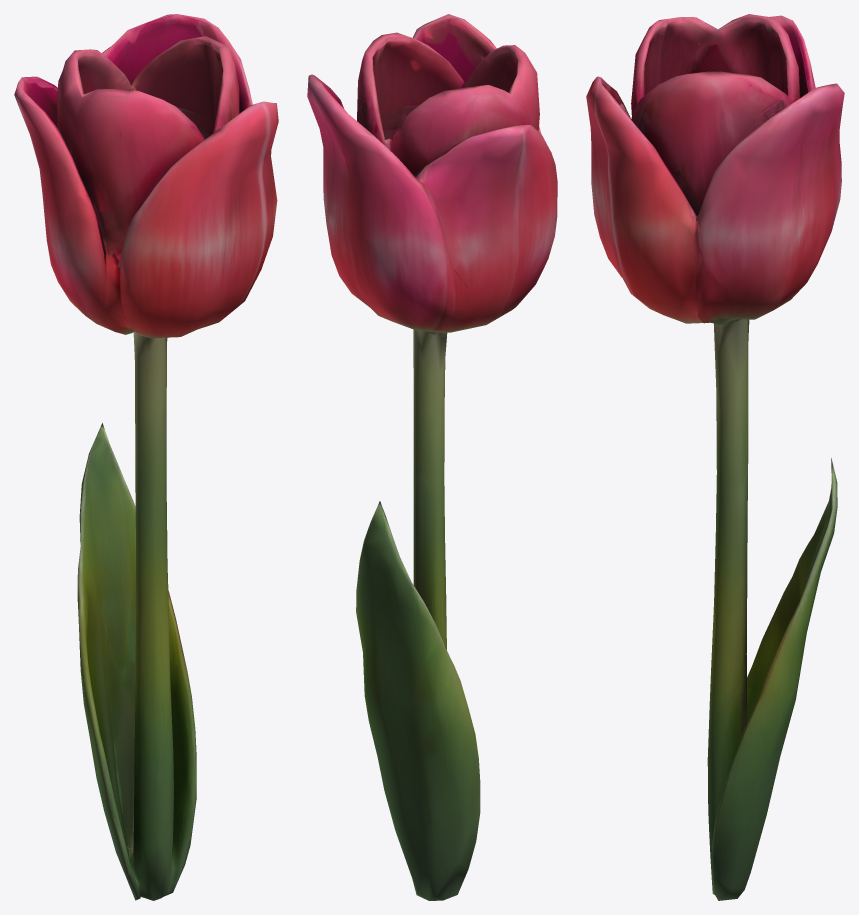
Rendered from tulipan.glb.
3 views of the same model, side by side, from view 1: azimuth 30°, elevation 25°; view 2: azimuth 150°, elevation 25°; view 3: azimuth 270°, elevation 25° (orthographic).
Visible parts, largest first — view 1: Mesh_0; view 2: Mesh_0; view 3: Mesh_0.
Part boxes in pixels (<box>): Mesh_0: <box>14,14,278,900</box>; Mesh_0: <box>307,14,557,900</box>; Mesh_0: <box>586,14,844,900</box>.
Size of the model in its own units: 0.1472 by 0.55 by 0.1516.
Materials: 1 (1 with a texture image).
